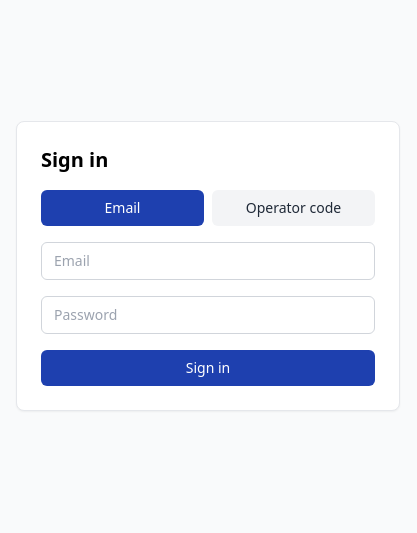
Test: LoginForm operator code › explains a 400
The image size is (417, 533).
Click the tab "Operator code" at (294, 208), box [212,190,375,226]
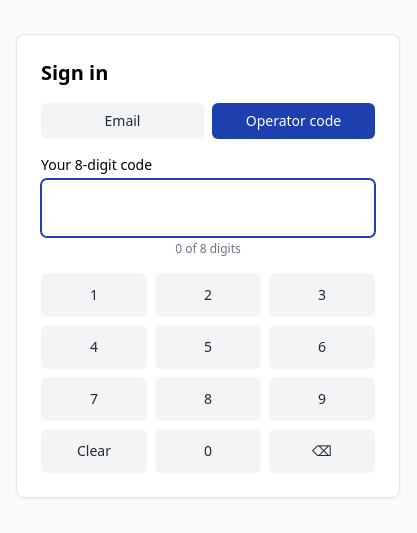
Type "12345678" into the password field labelled "Your 8-digit code" at (208, 208), box [41,179,375,237]
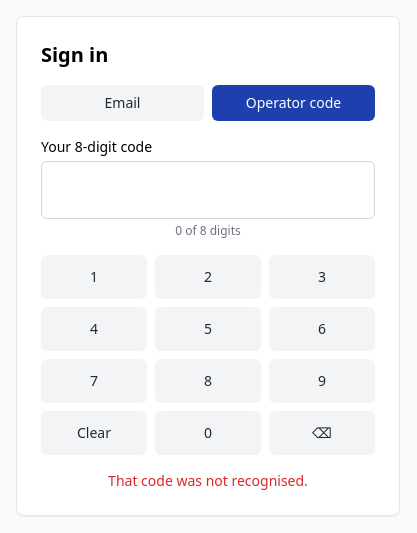
Expected: the message reads "That code was not recognised.", [108,471,308,490]
